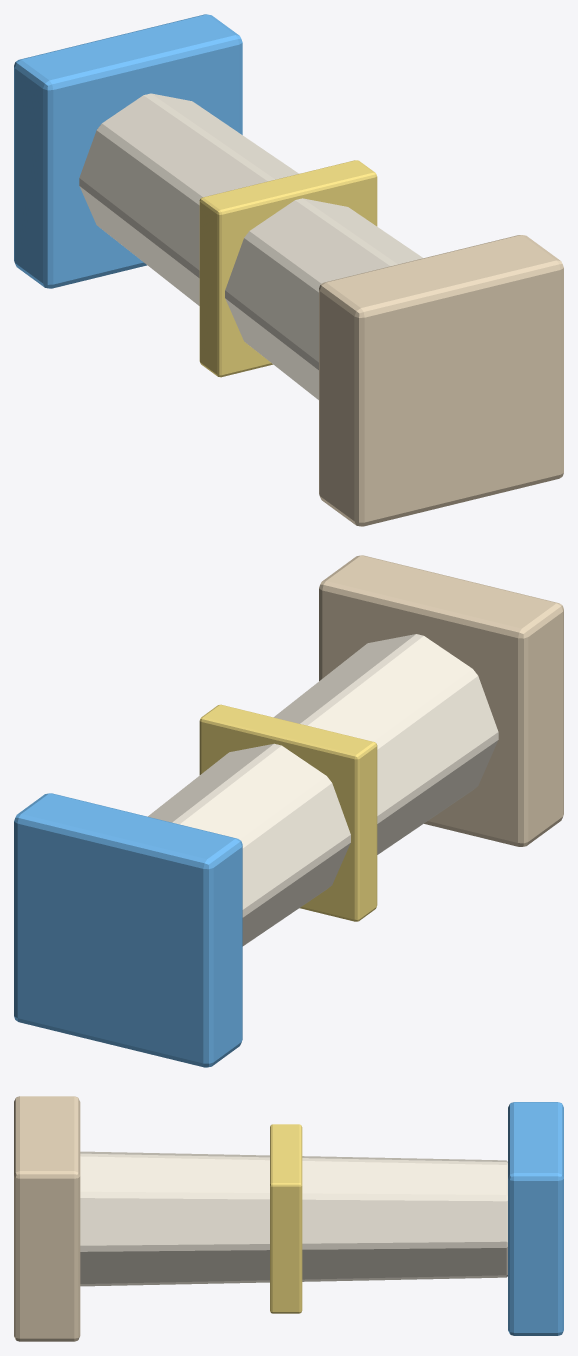
File: Env_RuinedPillar.fbx
The picture shows the model from 3 angles, top to bottom: view 1: azimuth 30°, elevation 25°; view 2: azimuth 150°, elevation 25°; view 3: azimuth 270°, elevation 25°; orthographic projection. The views are drawn at different scales.
Parts seen in each view (by area): view 1: Plinth, Column, Capital, RuneBand; view 2: Capital, Column, Plinth, RuneBand; view 3: Column, Plinth, Capital, RuneBand.
Boxes of the visible parts, bbox=[...] form: Plinth: bbox=[319, 235, 563, 526]; Column: bbox=[79, 93, 423, 399]; Capital: bbox=[14, 14, 242, 288]; RuneBand: bbox=[199, 160, 377, 377]; Capital: bbox=[14, 793, 242, 1067]; Column: bbox=[148, 634, 498, 946]; Plinth: bbox=[319, 555, 563, 846]; RuneBand: bbox=[199, 704, 377, 921]; Column: bbox=[80, 1151, 507, 1286]; Plinth: bbox=[14, 1096, 80, 1341]; Capital: bbox=[508, 1102, 563, 1335]; RuneBand: bbox=[270, 1124, 302, 1313].
Bounding box in the file's own units: 1.28 × 1.28 × 3.74.
